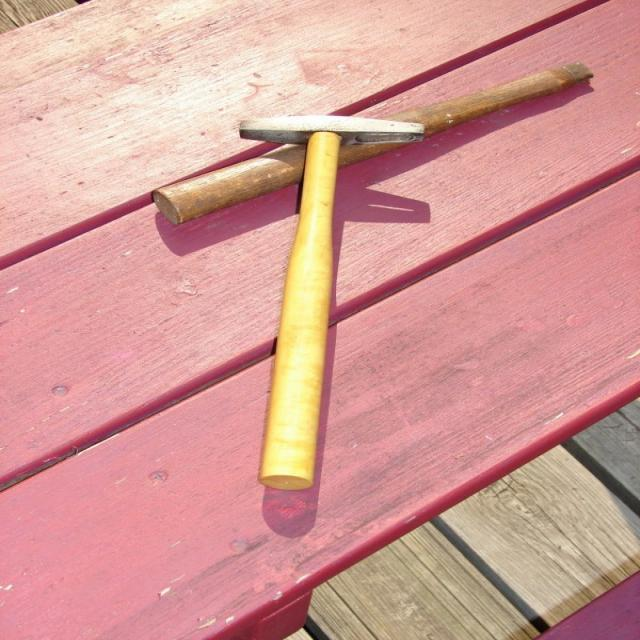hammer: (212, 101, 440, 492)
